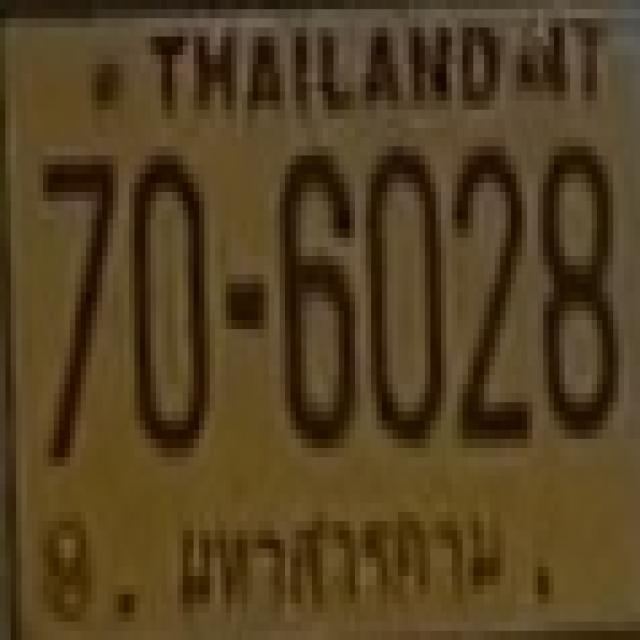0: (363, 137, 438, 439), (129, 146, 204, 448)
2: (452, 137, 527, 439)
6: (277, 146, 352, 439)
7: (38, 146, 113, 457)
8: (538, 137, 613, 430)
MKM: (154, 477, 526, 626)
